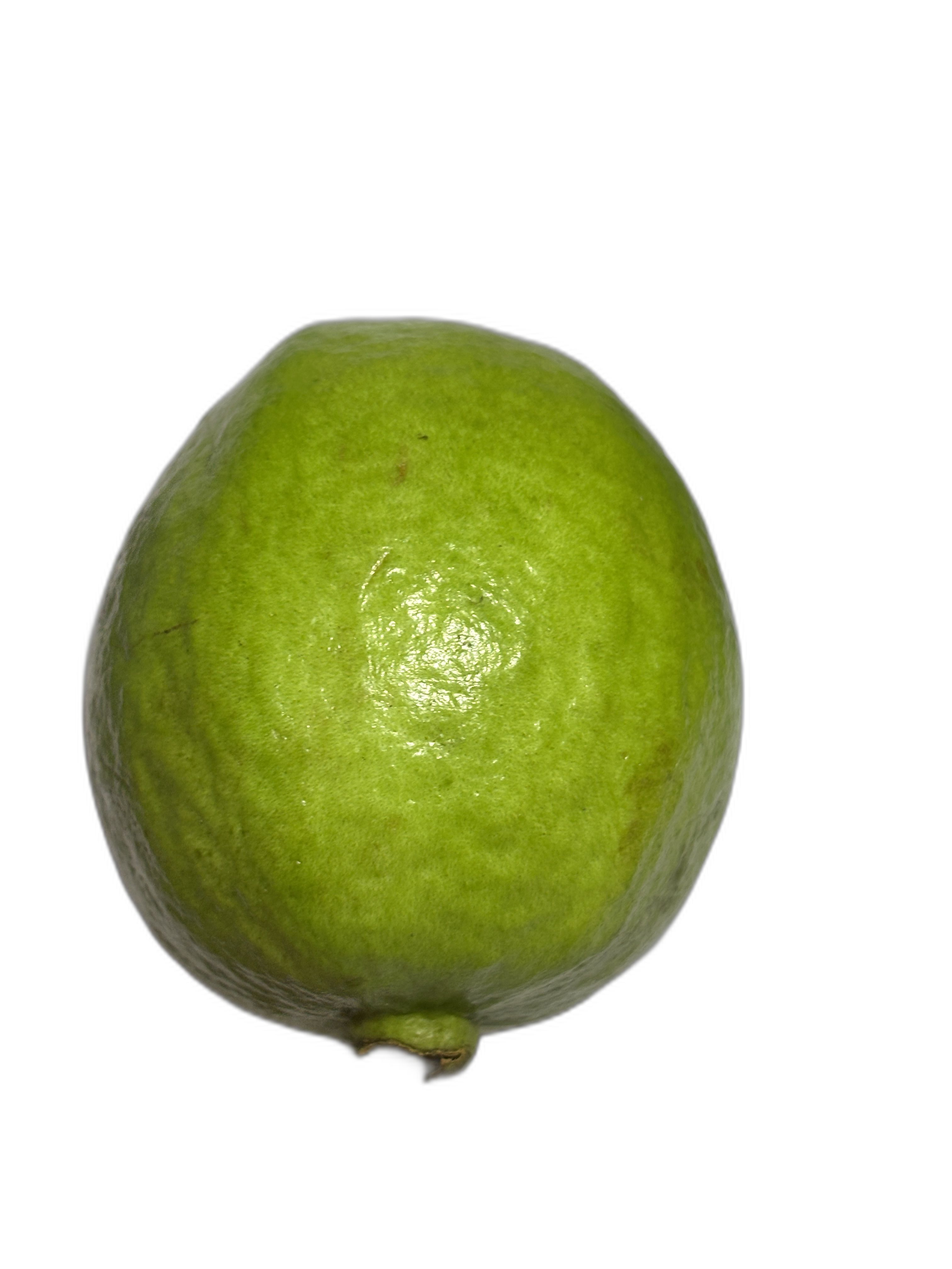guava: (74, 206, 909, 1057)
